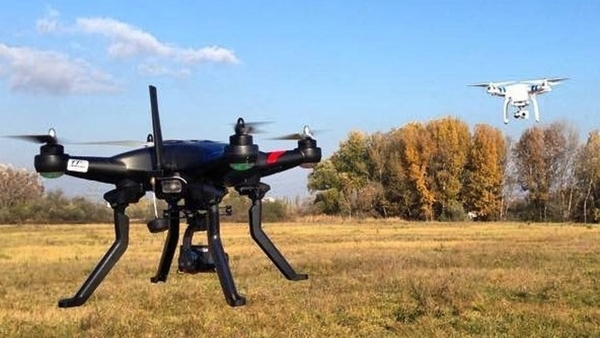drone: (3, 84, 325, 313), (466, 77, 572, 124)
